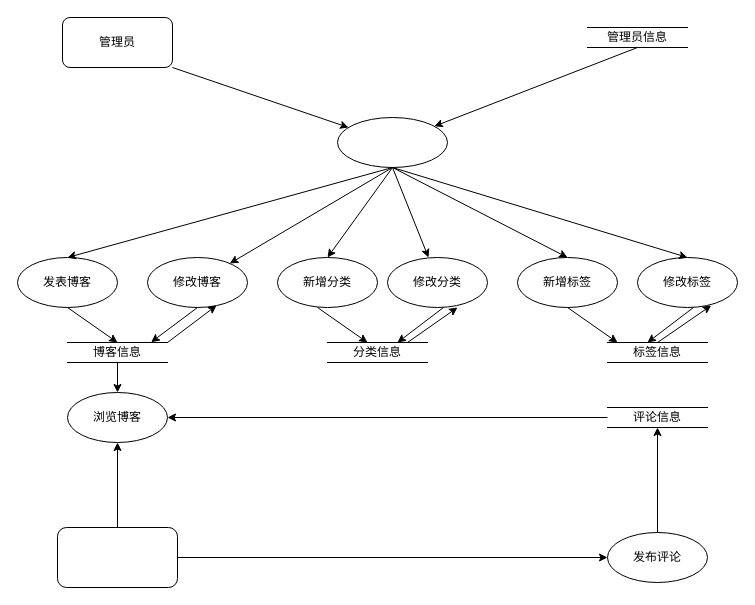
The diagram is 755 pixels wide and 605 high, and some of its shapes have lost their labels. Each missing label, with the box of its shape:
用户: (56, 526, 178, 588)
登陆: (336, 116, 448, 168)
